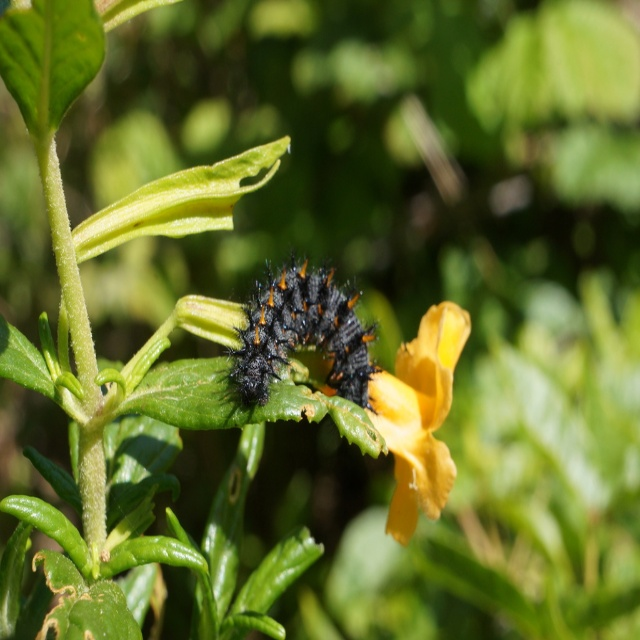Caterpillar: (218, 242, 384, 410)
